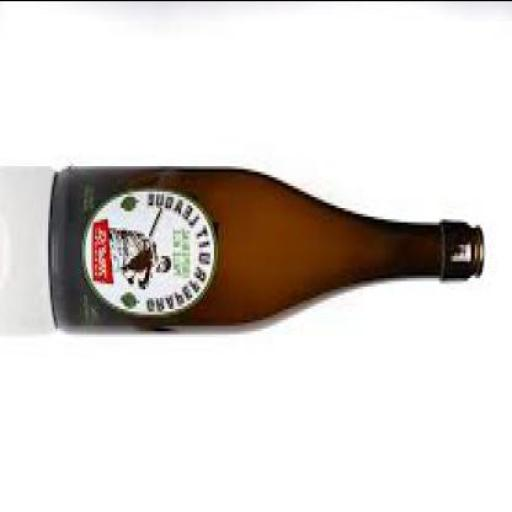glass: (51, 165, 486, 338)
